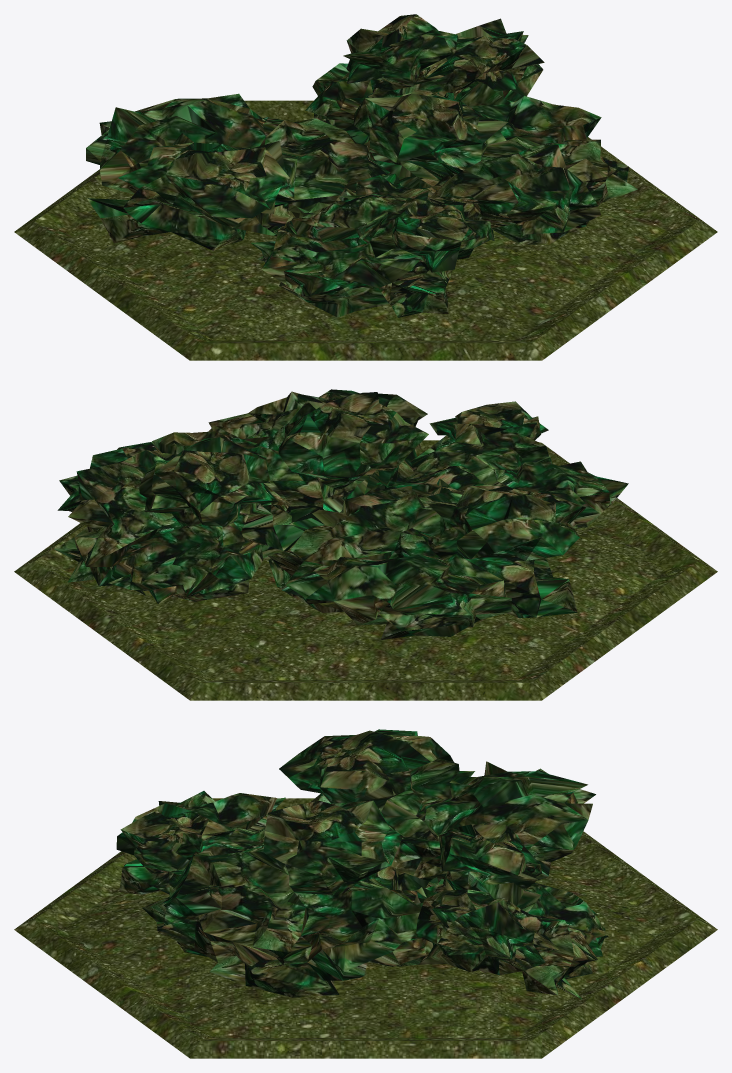
File: bramble.glb
3 views of the same model, one above another, from view 1: azimuth 30°, elevation 25°; view 2: azimuth 150°, elevation 25°; view 3: azimuth 270°, elevation 25° (orthographic).
Parts seen in each view (by area): view 1: Mball.003, HexagonTile.005; view 2: Mball.003, HexagonTile.005; view 3: Mball.003, HexagonTile.005.
Boxes of the visible parts, x1,y1,x2,y2 form: Mball.003: (86,14,637,317); HexagonTile.005: (14,100,717,360); Mball.003: (54,389,628,639); HexagonTile.005: (14,440,717,700); Mball.003: (116,729,608,999); HexagonTile.005: (14,798,717,1058).
Size of the model in its own units: 1.73 by 0.4429 by 2.
2 materials, 2 textured.
